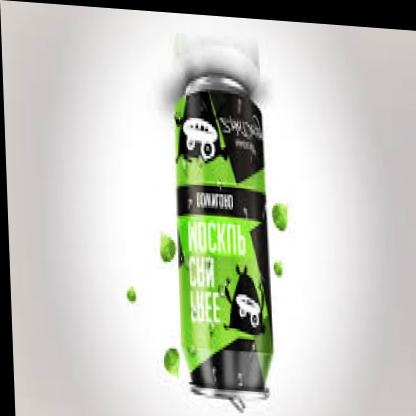trash: (175, 73, 272, 390)
